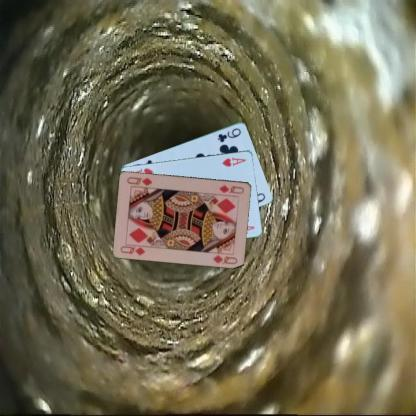9c: (215, 126, 242, 144)
Ah: (219, 154, 247, 168)
Qd: (118, 241, 148, 256), (217, 182, 245, 195)
